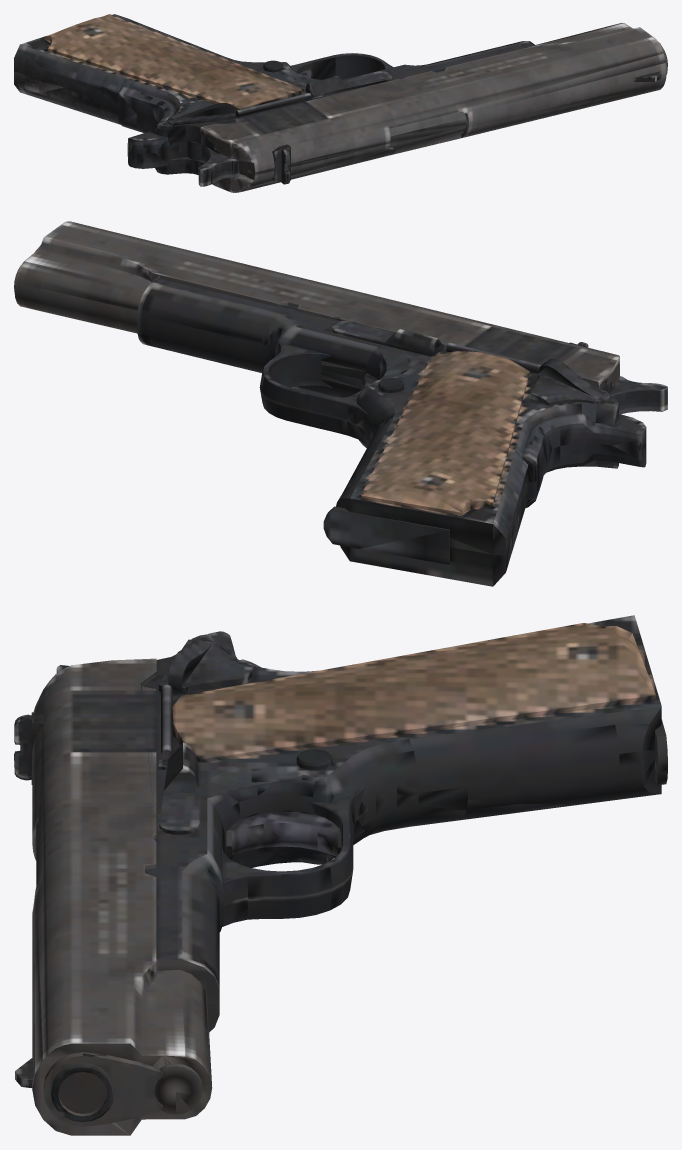
Rendered from TST_M1911.glb.
The picture shows the model from 3 angles, top to bottom: view 1: azimuth 30°, elevation 25°; view 2: azimuth 150°, elevation 25°; view 3: azimuth 270°, elevation 25°; orthographic projection. The views are drawn at different scales.
Visible parts, largest first — view 1: M1911 Body, M1911 Slider; view 2: M1911 Body, M1911 Slider, M1911 Magazine; view 3: M1911 Body, M1911 Slider.
Part boxes in pixels (bbox=[...]): M1911 Body: bbox=[14, 14, 667, 186]; M1911 Slider: bbox=[200, 23, 667, 192]; M1911 Body: bbox=[137, 276, 667, 586]; M1911 Slider: bbox=[14, 221, 619, 388]; M1911 Magazine: bbox=[323, 506, 449, 564]; M1911 Body: bbox=[51, 615, 661, 1121]; M1911 Slider: bbox=[14, 658, 212, 1135].
Size of the model in its own units: 9.03 by 1.12 by 5.63.
Materials: 3 (3 with a texture image).
